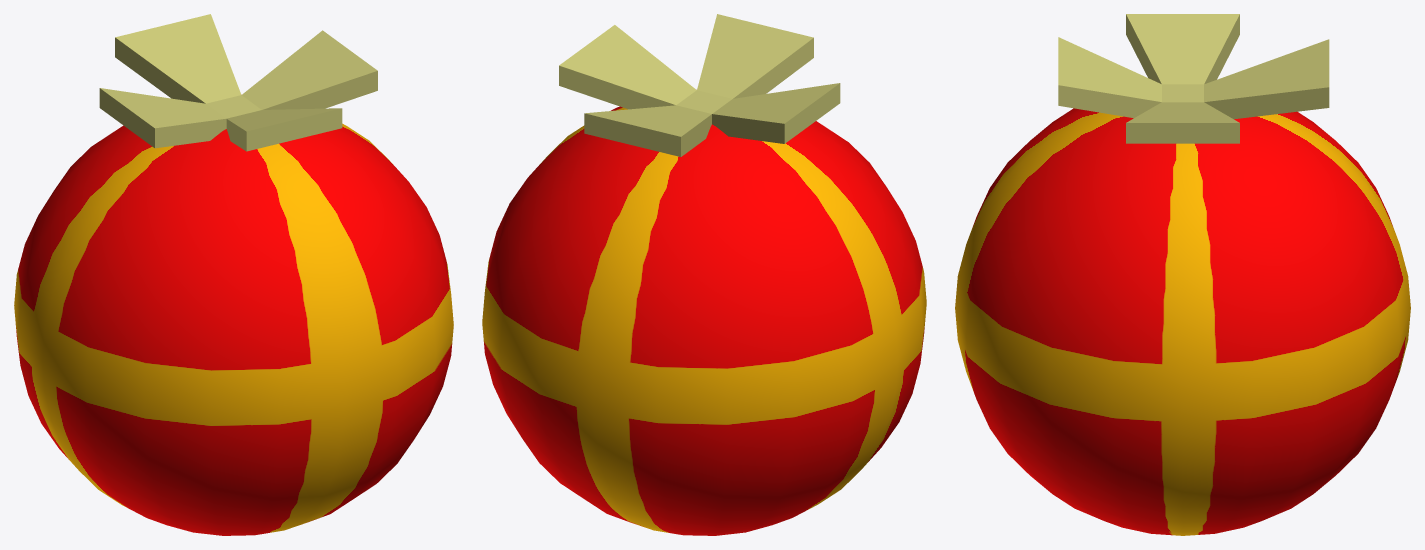
The model's file is PresentSphere.fbx.
3 views of the same model, side by side, from view 1: azimuth 30°, elevation 25°; view 2: azimuth 150°, elevation 25°; view 3: azimuth 270°, elevation 25° (orthographic). The views are drawn at different scales.
Visible parts, largest first — view 1: pSphere1, pCube1; view 2: pSphere1, pCube1; view 3: pSphere1, pCube1.
Boxes of the visible parts, x1,y1,x2,y2 form: pSphere1: [14, 123, 453, 535]; pCube1: [99, 14, 377, 151]; pSphere1: [482, 106, 926, 535]; pCube1: [559, 14, 840, 156]; pSphere1: [955, 108, 1410, 535]; pCube1: [1058, 14, 1329, 143].
Bounding box in the file's own units: 2 × 2.2 × 2.
Materials: 2 (1 with a texture image).
